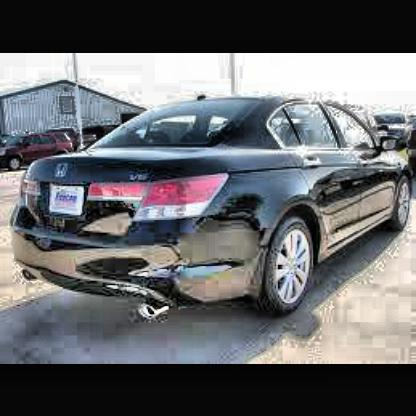Honda Accord Sedan 2012: (14, 91, 416, 319)
